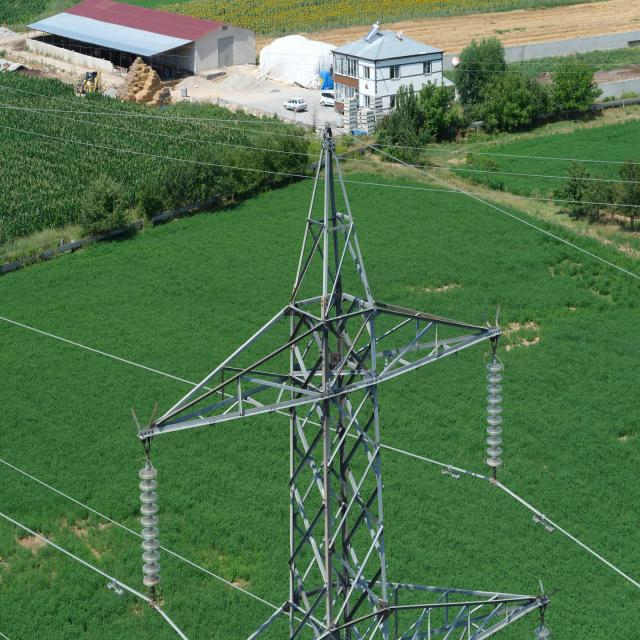direk: (193, 111, 496, 640)
tree: (462, 49, 596, 124), (138, 166, 243, 206), (383, 85, 463, 131), (83, 180, 141, 236), (242, 146, 312, 176)
